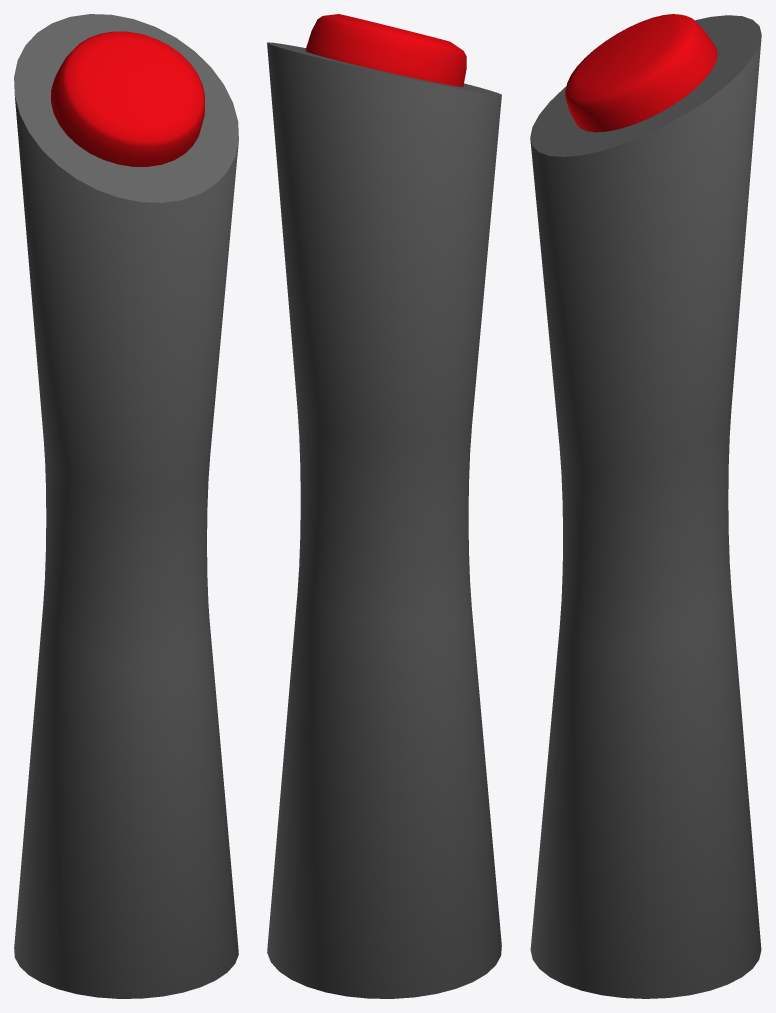
The model's file is PedistalButton.fbx.
The picture shows the model from 3 angles, left to right: view 1: azimuth 30°, elevation 25°; view 2: azimuth 150°, elevation 25°; view 3: azimuth 270°, elevation 25°; orthographic projection. The views are drawn at different scales.
Parts seen in each view (by area): view 1: Pedistal, Button; view 2: Pedistal, Button; view 3: Pedistal, Button.
Part boxes in pixels (x1,y1,x2,y2): Pedistal: (14, 14, 238, 998); Button: (51, 31, 204, 166); Pedistal: (267, 42, 501, 998); Button: (305, 14, 466, 86); Pedistal: (530, 15, 761, 998); Button: (565, 14, 717, 132).
Size of the model in its own units: 62.54 by 276 by 62.72.
